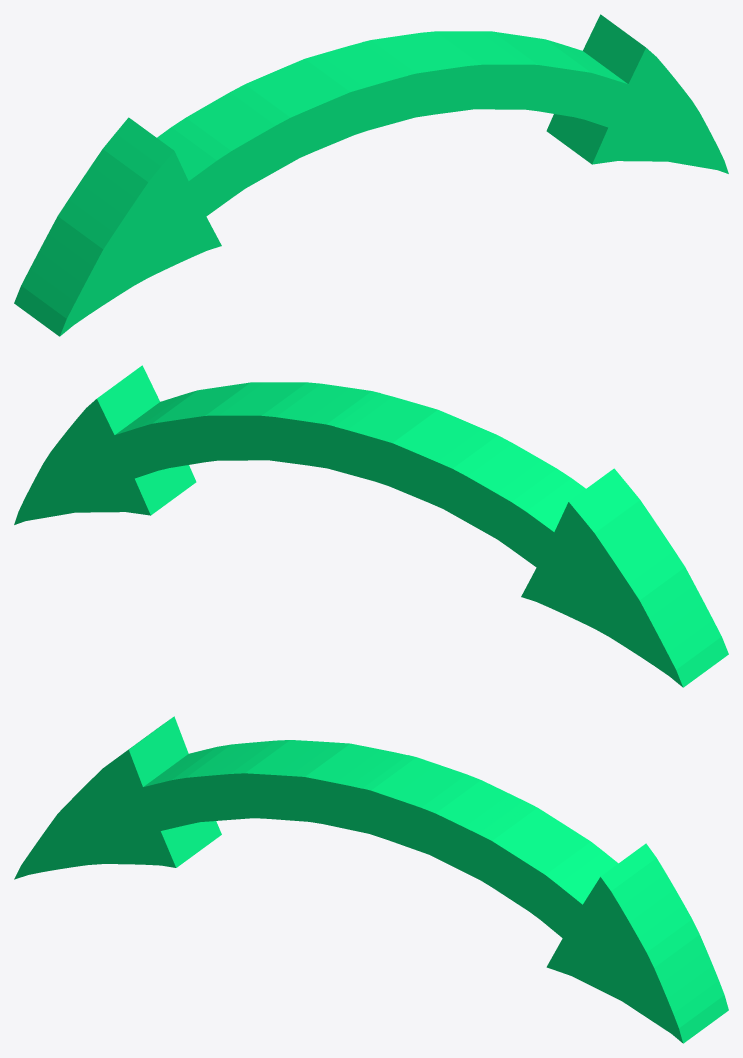
Rendered from GreenDoubleCurve3.fbx.
3 renders of one model, top to bottom at view 1: azimuth 30°, elevation 25°; view 2: azimuth 150°, elevation 25°; view 3: azimuth 330°, elevation 25°, orthographic.
Parts seen in each view (by area): view 1: GreenCurve; view 2: GreenCurve; view 3: GreenCurve.
Part boxes in pixels (x1=…): GreenCurve: x1=14, y1=14, x2=728, y2=336; GreenCurve: x1=14, y1=365, x2=728, y2=687; GreenCurve: x1=14, y1=716, x2=728, y2=1043.
Bounding box in the file's own units: 15352 × 3880 × 1815.
